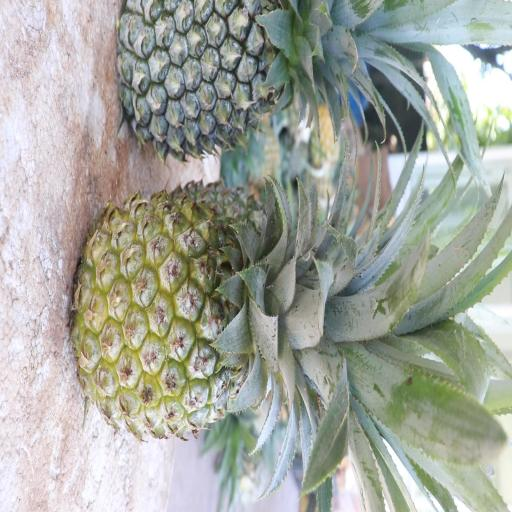------------------------------: (68, 178, 364, 431)
